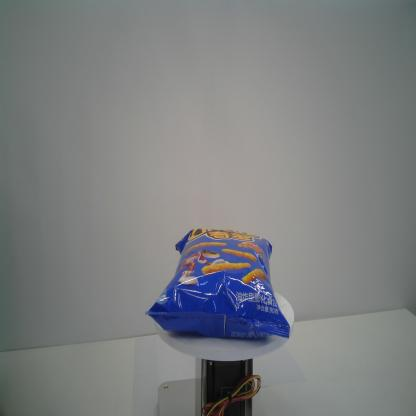Puffed Food: (144, 227, 290, 341)
